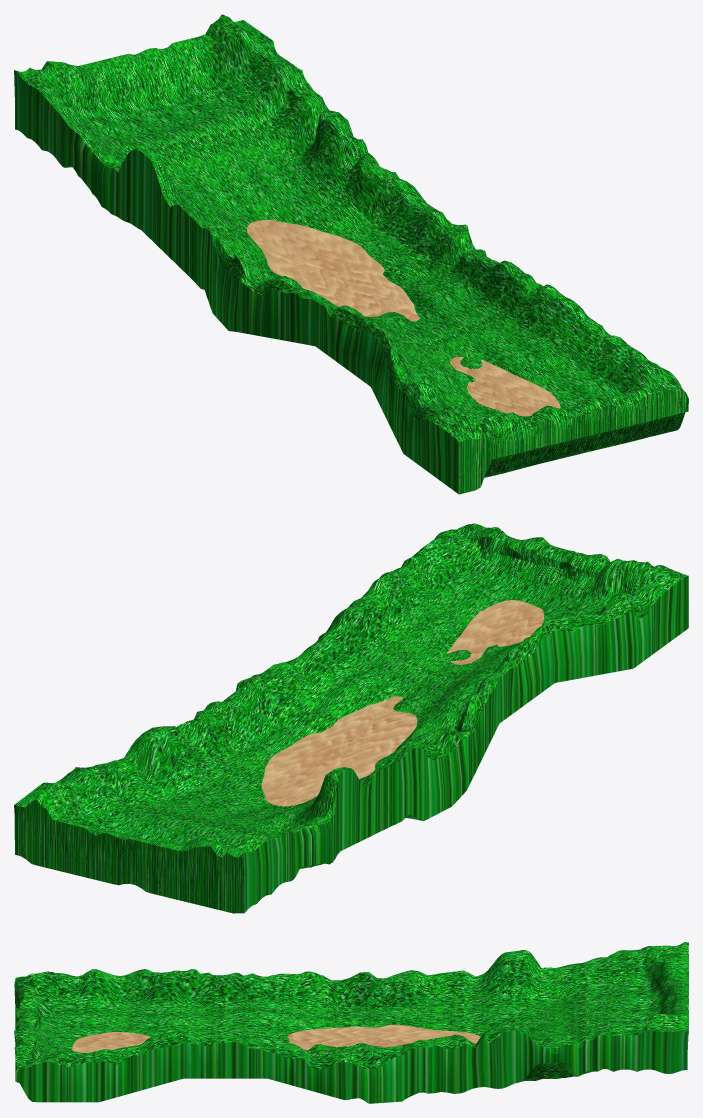
File: firstLevel1.glb
3 views of the same model, one above another, from view 1: azimuth 30°, elevation 25°; view 2: azimuth 150°, elevation 25°; view 3: azimuth 270°, elevation 25° (orthographic). The views are drawn at different scales.
Parts seen in each view (by area): view 1: ground, roud; view 2: ground, roud; view 3: ground, roud.
Boxes of the visible parts, x1,y1,x2,y2 form: ground: [14, 14, 688, 494]; roud: [247, 220, 560, 416]; ground: [14, 523, 688, 913]; roud: [261, 600, 544, 806]; ground: [14, 942, 688, 1103]; roud: [72, 1024, 480, 1052].
Bounding box in the file's own units: 54.94 × 25.99 × 182.
2 materials, 2 textured.
